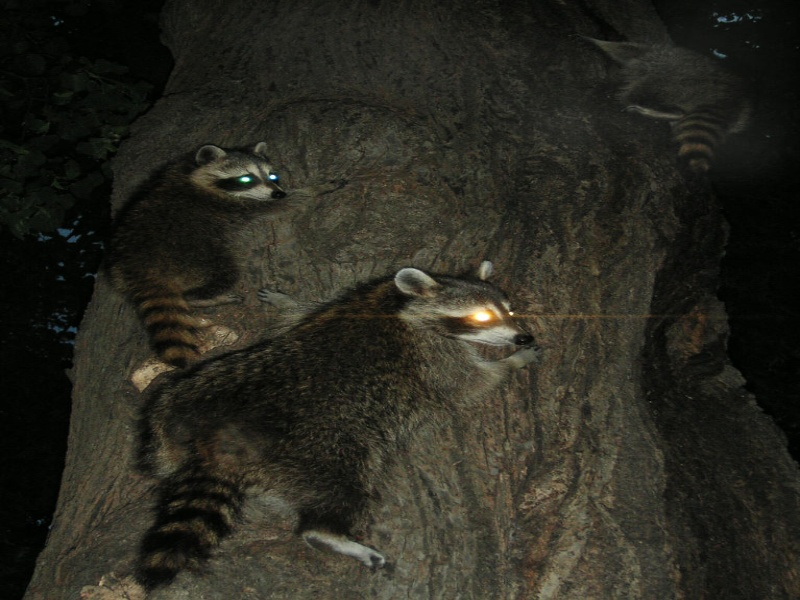raccoon: (133, 256, 541, 592), (97, 135, 284, 369), (586, 23, 755, 181)
